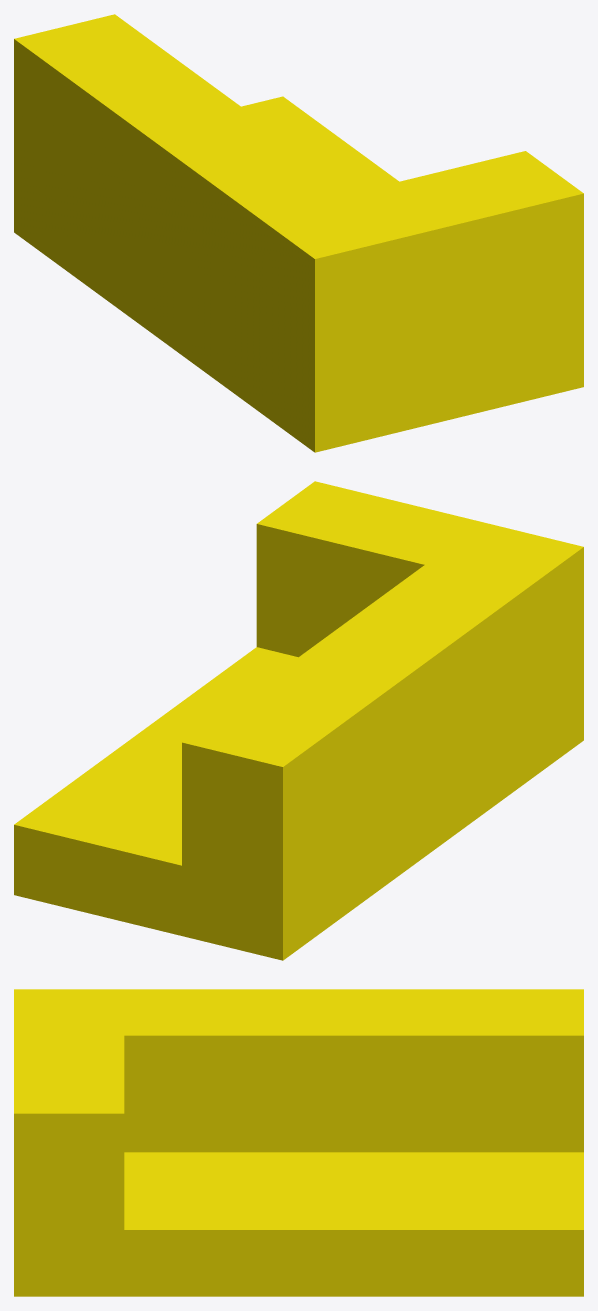
The model's file is modelo_didático_8.glb.
The picture shows the model from 3 angles, top to bottom: view 1: azimuth 30°, elevation 25°; view 2: azimuth 150°, elevation 25°; view 3: azimuth 270°, elevation 25°; orthographic projection. The views are drawn at different scales.
Parts seen in each view (by area): view 1: Modelo didatico 8.SLDPRT; view 2: Modelo didatico 8.SLDPRT; view 3: Modelo didatico 8.SLDPRT.
Part boxes in pixels (<box>): Modelo didatico 8.SLDPRT: <box>14,14,583,452</box>; Modelo didatico 8.SLDPRT: <box>14,481,583,960</box>; Modelo didatico 8.SLDPRT: <box>14,989,583,1296</box>.
Bounding box in the file's own units: 0.032 × 0.022 × 0.062.
